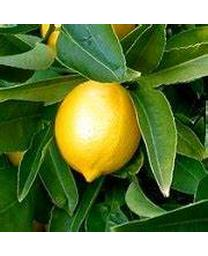lemon: (56, 80, 140, 185)
